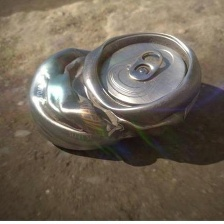can: (18, 21, 208, 155)
